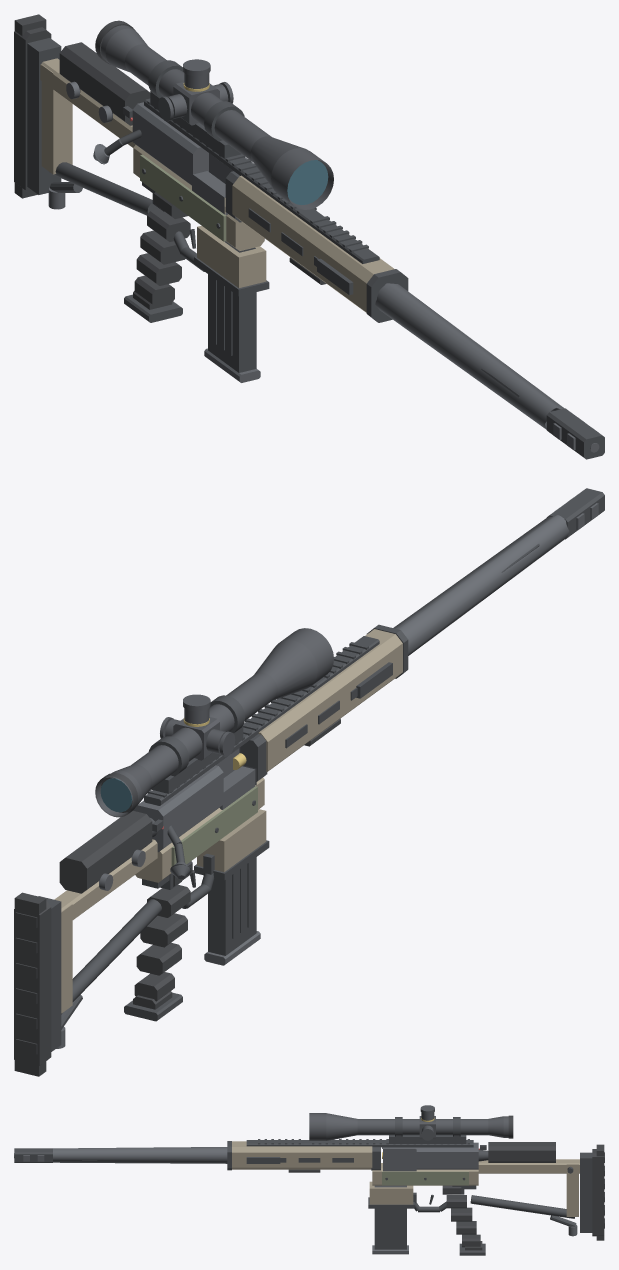
Rendered from sniper.glb.
3 views of the same model, one above another, from view 1: azimuth 30°, elevation 25°; view 2: azimuth 150°, elevation 25°; view 3: azimuth 270°, elevation 25° (orthographic). The views are drawn at different scales.
Parts seen in each view (by area): view 1: body, mag; view 2: body, mag; view 3: body, mag.
Boxes of the visible parts, x1,y1,x2,y2 form: body: (14,14,604,459); mag: (204,241,260,382); body: (14,488,604,1076); mag: (204,857,260,965); body: (14,1105,604,1255); mag: (372,1185,408,1254).
Bounding box in the file's own units: 0.0976 × 0.328 × 1.22.
